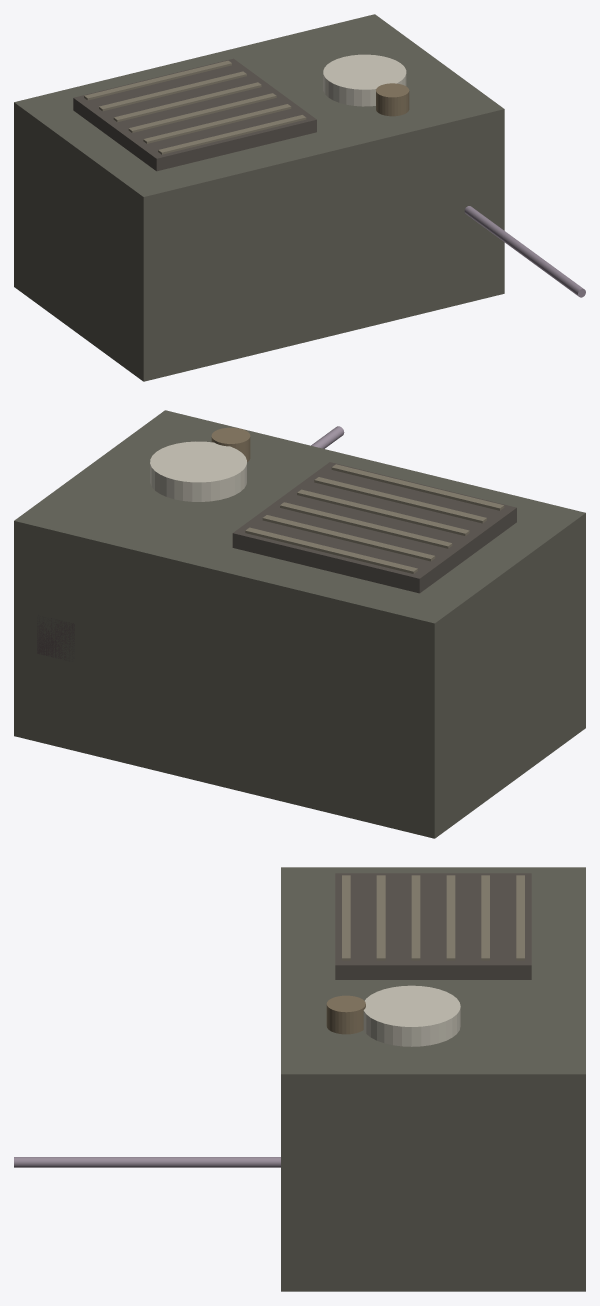
File: radio.glb
The picture shows the model from 3 angles, top to bottom: view 1: azimuth 30°, elevation 25°; view 2: azimuth 150°, elevation 25°; view 3: azimuth 270°, elevation 25°; orthographic projection. The views are drawn at different scales.
Visible parts, largest first — view 1: radio_case, radio_grill, radio_dial, radio_antenna, radio_knob, radio_slot1, radio_slot0, radio_slot2, radio_slot5, radio_slot4, radio_slot3; view 2: radio_case, radio_grill, radio_dial, radio_foot, radio_slot5, radio_slot1, radio_slot3, radio_slot0, radio_slot2, radio_slot4, radio_knob; view 3: radio_case, radio_grill, radio_dial, radio_antenna, radio_knob, radio_slot2, radio_slot3, radio_slot4, radio_slot0, radio_slot1, radio_slot5.
Part boxes in pixels (bbox=[...]): radio_case: bbox=[14, 14, 504, 381]; radio_grill: bbox=[73, 58, 316, 171]; radio_dial: bbox=[323, 54, 406, 106]; radio_antenna: bbox=[464, 206, 585, 297]; radio_knob: bbox=[376, 83, 409, 116]; radio_slot1: bbox=[99, 71, 246, 111]; radio_slot0: bbox=[84, 60, 231, 100]; radio_slot2: bbox=[113, 82, 261, 122]; radio_slot5: bbox=[158, 115, 306, 154]; radio_slot4: bbox=[143, 104, 291, 143]; radio_slot3: bbox=[128, 93, 276, 132]; radio_case: bbox=[14, 410, 585, 838]; radio_grill: bbox=[232, 462, 516, 593]; radio_dial: bbox=[150, 441, 246, 501]; radio_foot: bbox=[37, 615, 74, 661]; radio_slot5: bbox=[331, 464, 504, 510]; radio_slot1: bbox=[262, 515, 435, 561]; radio_slot3: bbox=[297, 489, 469, 535]; radio_slot0: bbox=[245, 527, 417, 573]; radio_slot2: bbox=[280, 502, 452, 548]; radio_slot4: bbox=[314, 477, 486, 523]; radio_knob: bbox=[211, 427, 250, 461]; radio_case: bbox=[281, 867, 585, 1291]; radio_grill: bbox=[335, 873, 531, 979]; radio_dial: bbox=[363, 985, 460, 1046]; radio_antenna: bbox=[14, 1157, 280, 1167]; radio_knob: bbox=[326, 995, 365, 1034]; radio_slot2: bbox=[446, 875, 455, 960]; radio_slot3: bbox=[411, 875, 420, 960]; radio_slot4: bbox=[376, 875, 385, 960]; radio_slot0: bbox=[516, 875, 524, 960]; radio_slot1: bbox=[481, 875, 489, 960]; radio_slot5: bbox=[342, 875, 350, 960].
Bounding box in the file's own units: 0.45 × 0.2425 × 0.525.
